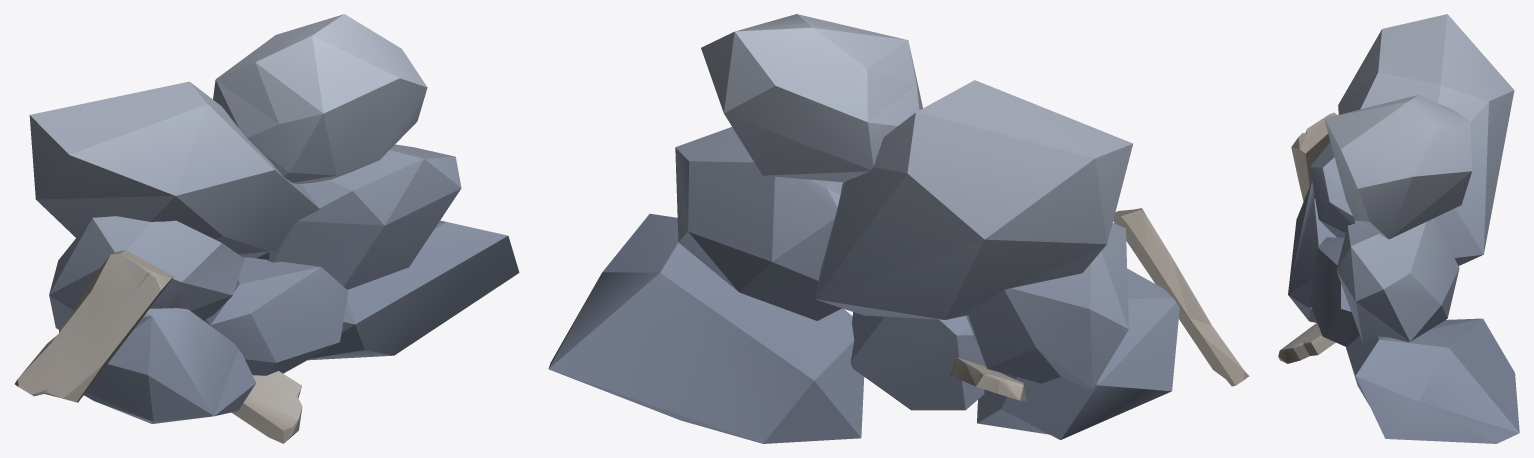
File: Terrain_Stage2_Wall_5.fbx
3 views of the same model, side by side, from view 1: azimuth 30°, elevation 25°; view 2: azimuth 150°, elevation 25°; view 3: azimuth 270°, elevation 25° (orthographic). The views are drawn at different scales.
Visible parts, largest first — view 1: terrain_wall_409_A; view 2: terrain_wall_409_A; view 3: terrain_wall_409_A.
Boxes of the visible parts, left/top/right/bottom form: terrain_wall_409_A: left=15, top=14, right=519, bottom=443; terrain_wall_409_A: left=548, top=14, right=1249, bottom=443; terrain_wall_409_A: left=1278, top=14, right=1519, bottom=443.
Bounding box in the file's own units: 544 × 329 × 237.
Materials: 1 (1 with a texture image).
